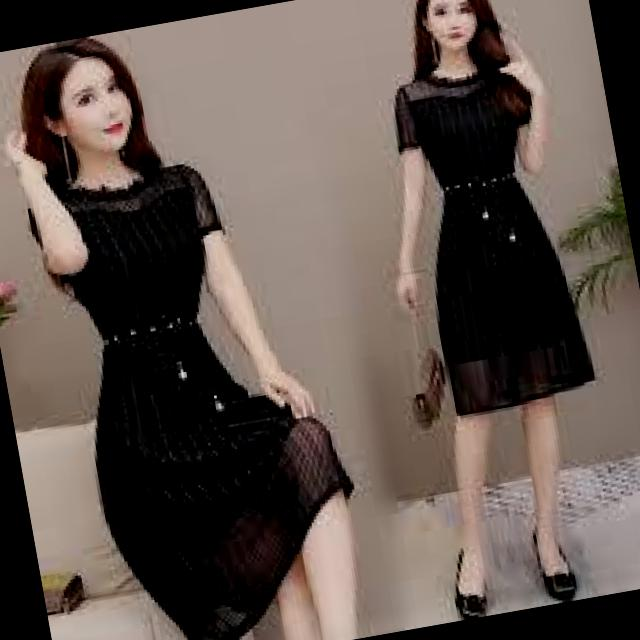dress: (18, 136, 376, 640), (386, 53, 604, 422)
